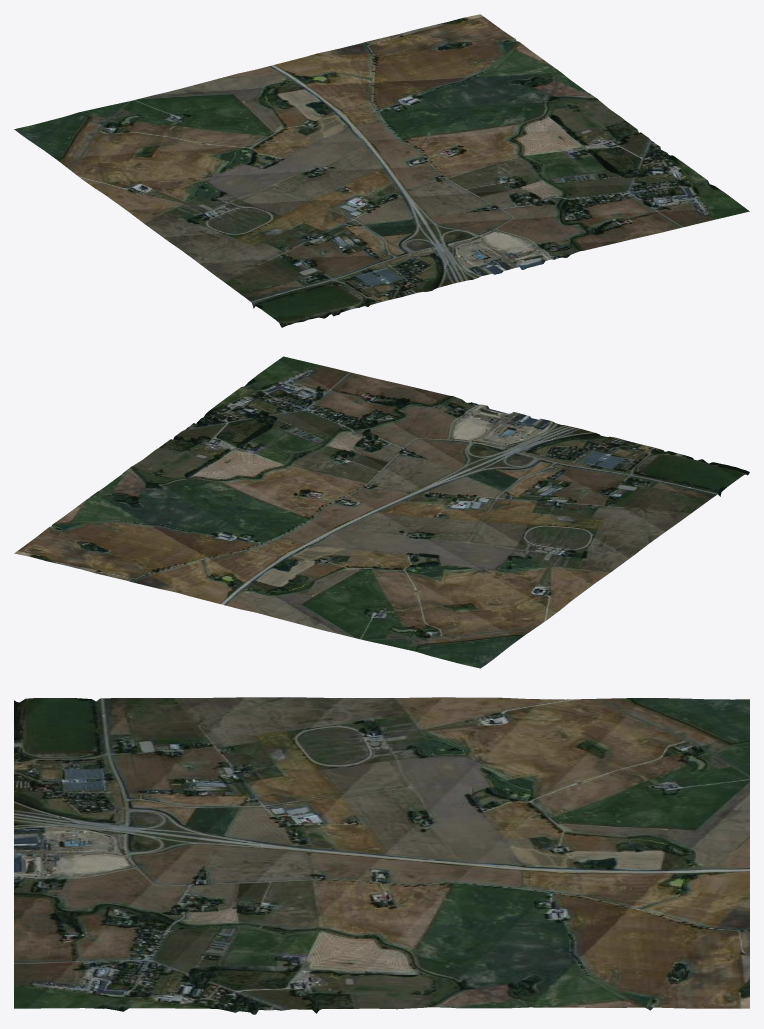
The model's file is map_10_251_429.dae.
3 renders of one model, top to bottom at view 1: azimuth 30°, elevation 25°; view 2: azimuth 150°, elevation 25°; view 3: azimuth 270°, elevation 25°, orthographic. The views are drawn at different scales.
Parts seen in each view (by area): view 1: Ter0; view 2: Ter0; view 3: Ter0.
Boxes of the visible parts, left/top/right/bottom form: Ter0: left=14, top=14, right=749, bottom=327; Ter0: left=14, top=356, right=749, bottom=668; Ter0: left=14, top=697, right=749, bottom=1014.
Bounding box in the file's own units: 2044 × 2044 × 29.35.
Materials: 3 (3 with a texture image).
